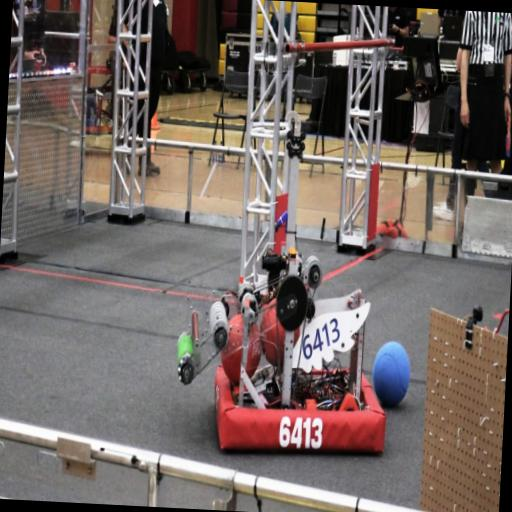robot: (162, 230, 396, 463)
